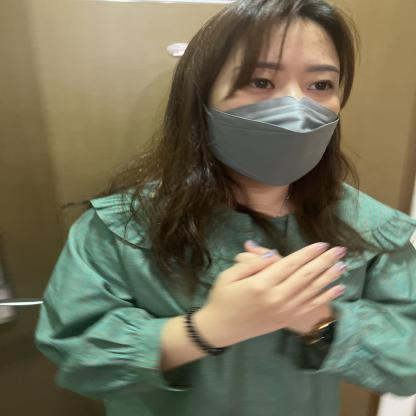Grieve: (83, 176, 384, 358)
